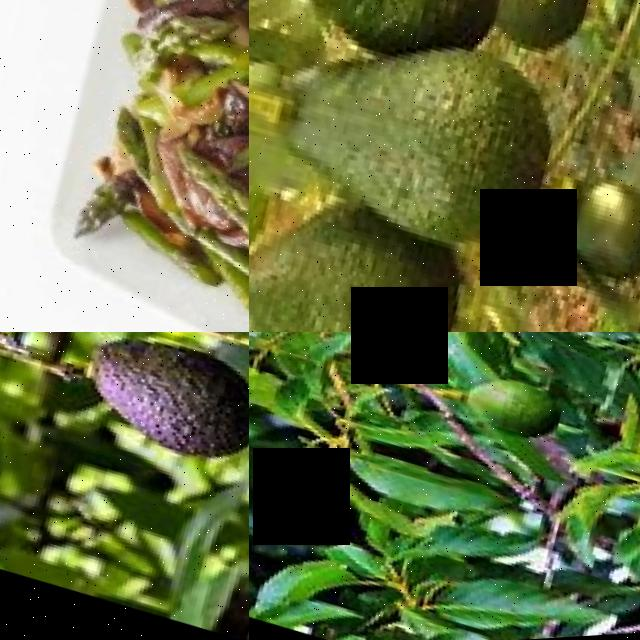avocado: (249, 7, 584, 293), (249, 158, 482, 332), (54, 332, 249, 490), (249, 0, 534, 95), (509, 151, 640, 332), (463, 0, 627, 79), (438, 367, 554, 454)
